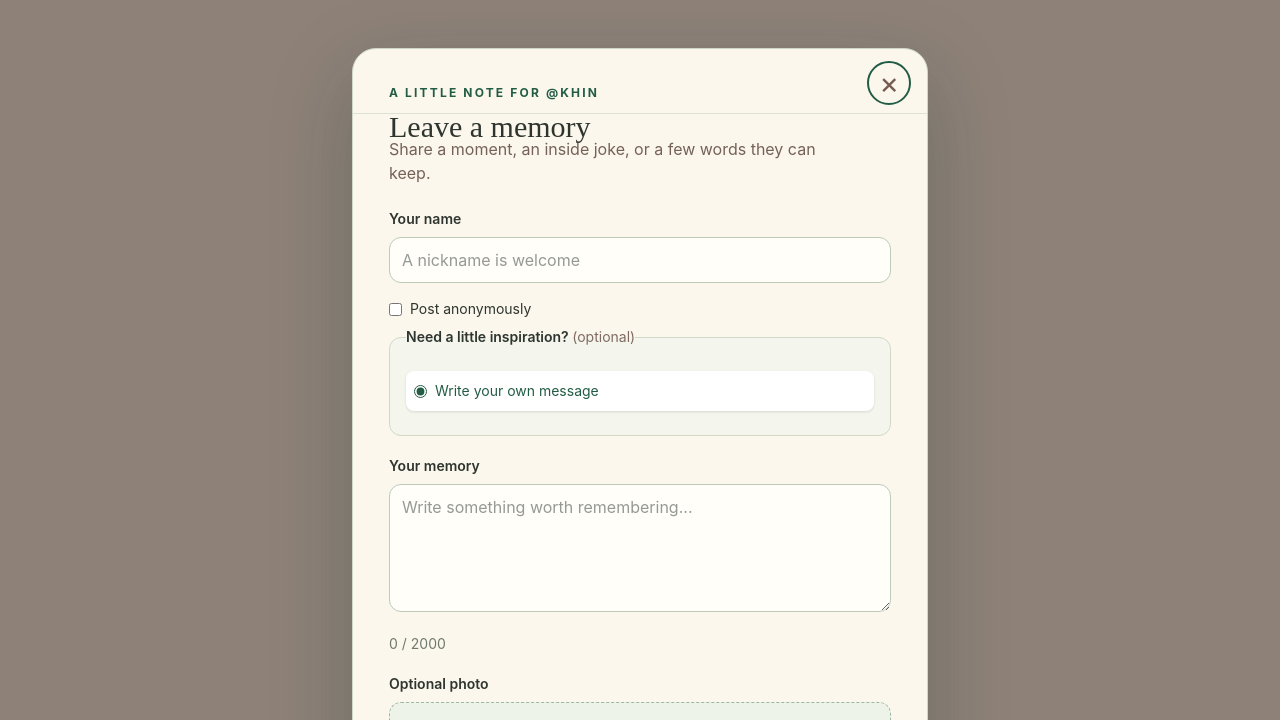
Test: guest memory form › shows a saving state and sends only the guest fields
The image size is (1280, 720).
Type "Su Su" into the field labelled "Your name".
click(640, 260); type("Su Su")  # box [389,237,891,283]
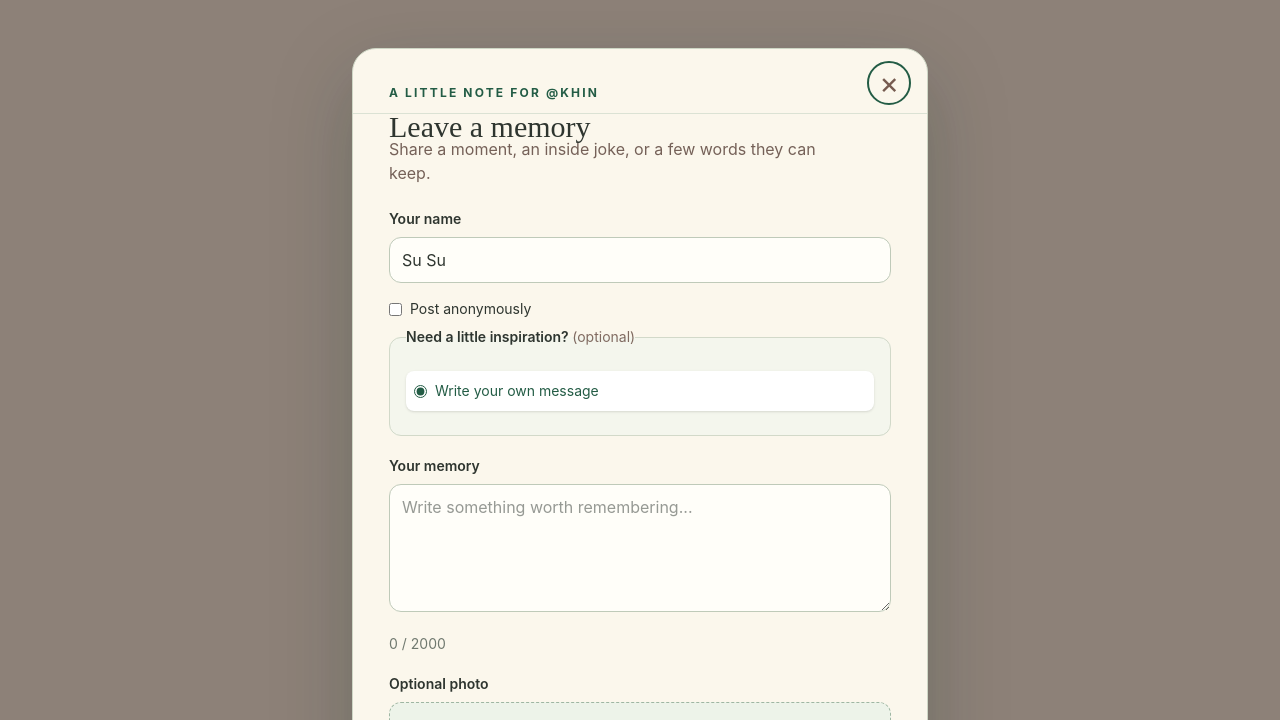
Type "Remember the library?" into the text box labelled "Your memory".
click(640, 548); type("Remember the library?")  # box [389,484,891,612]
(page scrolled)
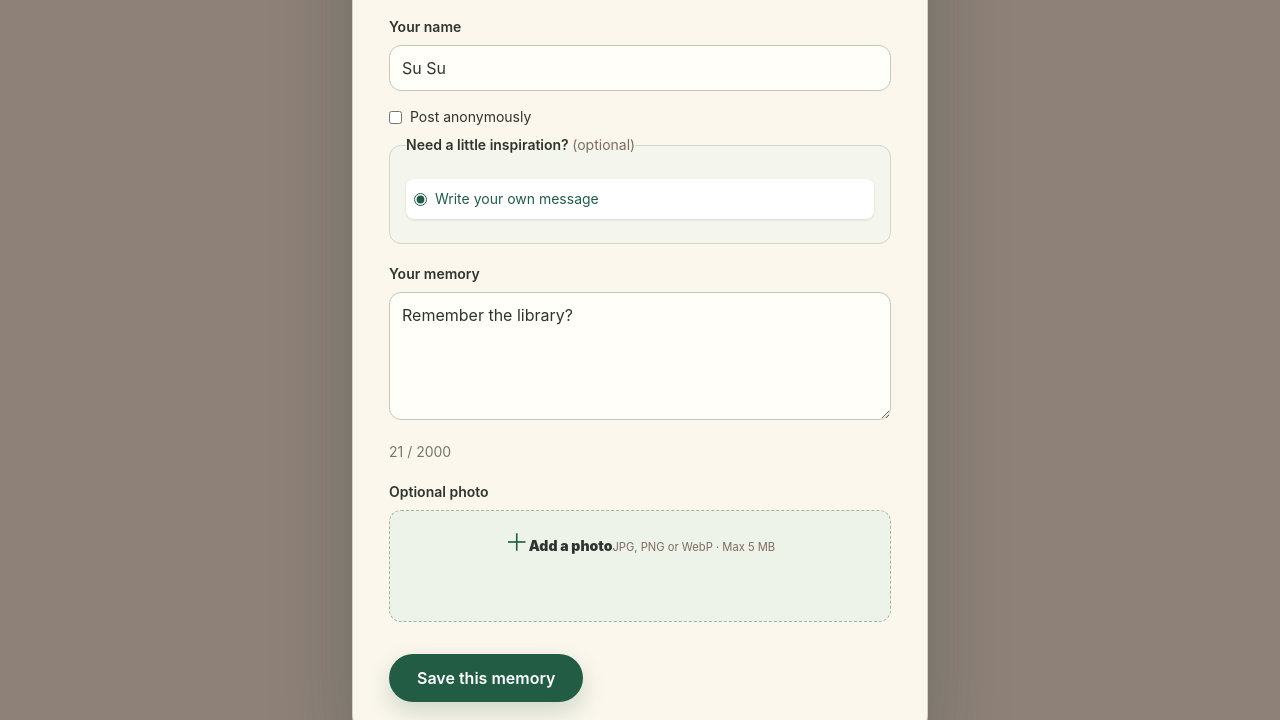
Submit the form, box [389,17,891,702]
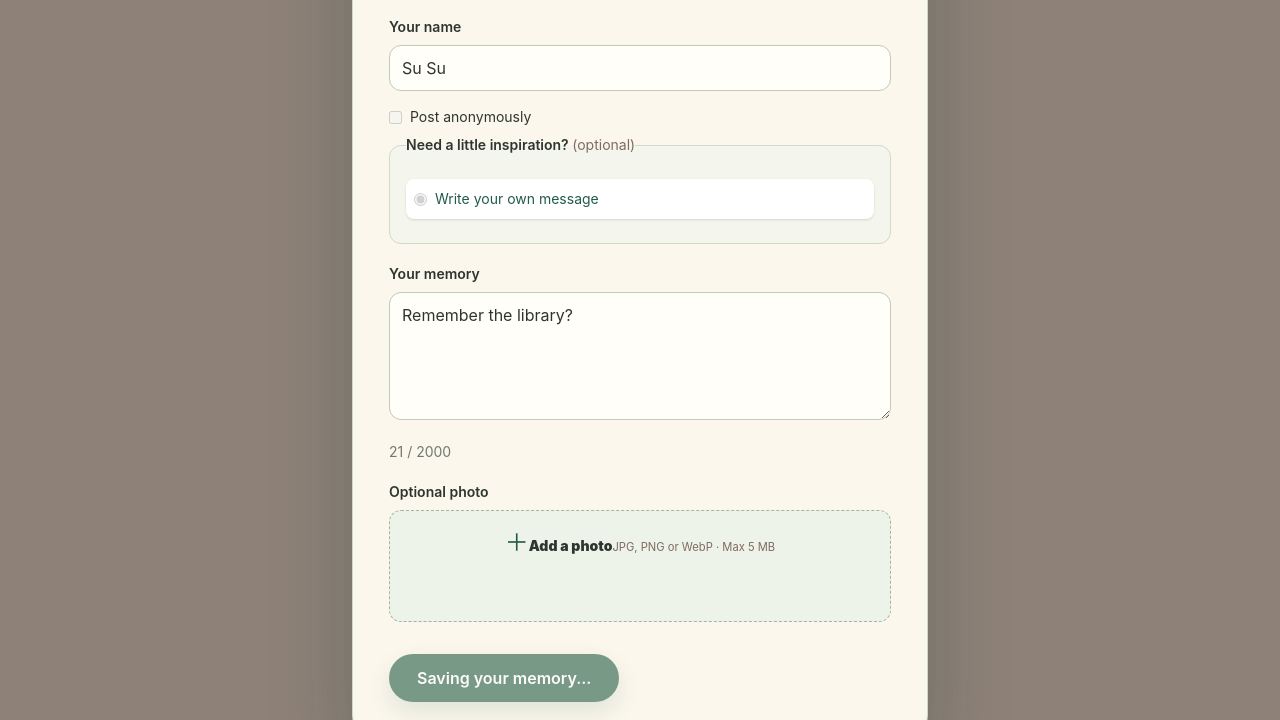
Now the button "Saving your memory..." is disabled, box [389,654,620,702]
